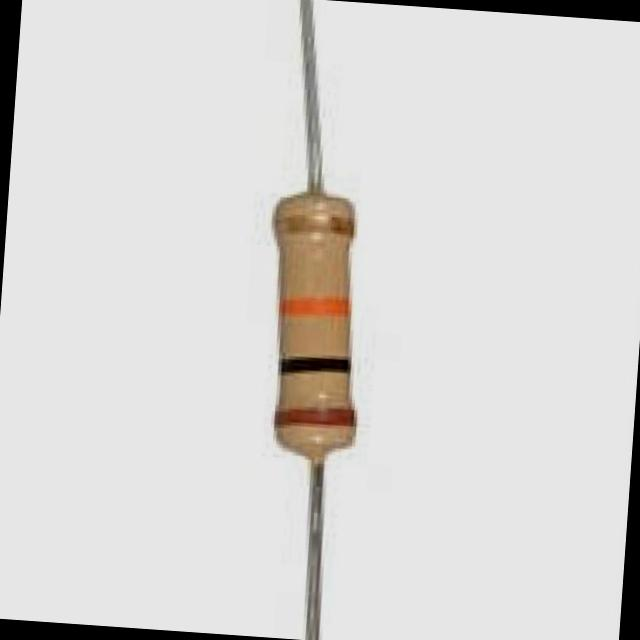Resistor: (274, 193, 356, 463)
black: (276, 354, 351, 375)
brown: (273, 406, 357, 432)
gold: (270, 216, 356, 236)
orange: (276, 298, 352, 318)
